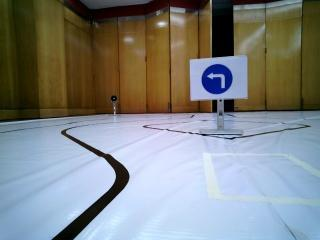left: (192, 61, 246, 98)
